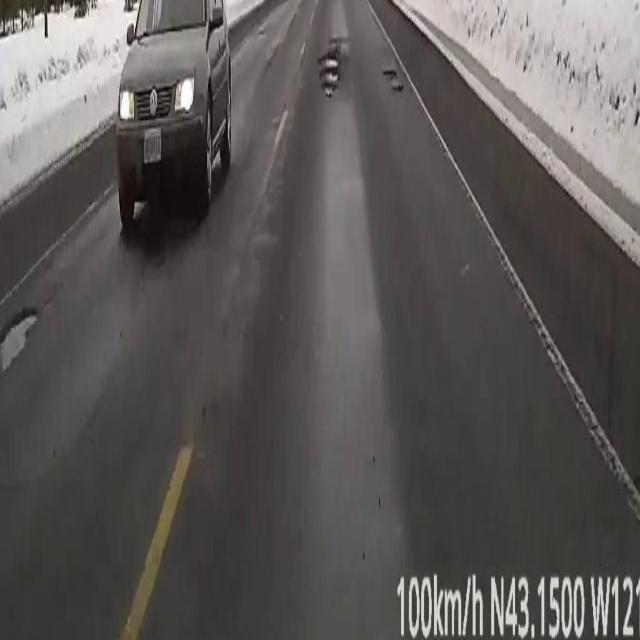pothole: (0, 310, 40, 412), (317, 55, 338, 95), (383, 69, 404, 95)
